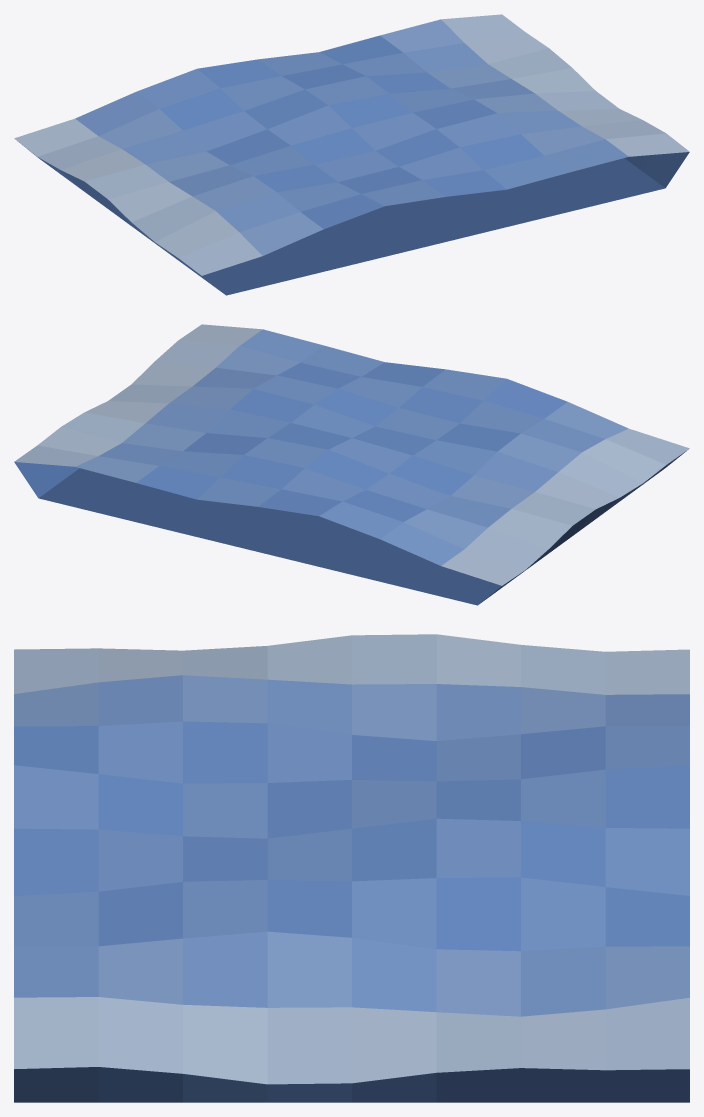
Rendered from sky_stream_segment.glb.
3 renders of one model, top to bottom at view 1: azimuth 30°, elevation 25°; view 2: azimuth 150°, elevation 25°; view 3: azimuth 270°, elevation 25°, orthographic. The views are drawn at different scales.
Visible parts, largest first — view 1: sky_stream_segment; view 2: sky_stream_segment; view 3: sky_stream_segment.
Boxes of the visible parts, <box> form: sky_stream_segment: <box>14,14,689,295</box>; sky_stream_segment: <box>14,324,689,605</box>; sky_stream_segment: <box>14,634,689,1102</box>.
Bounding box in the file's own units: 6 × 0.5954 × 4.
